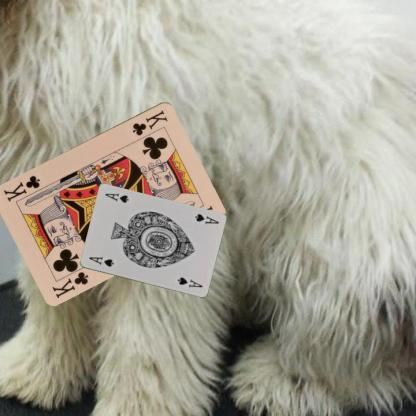As: (192, 211, 220, 226), (86, 254, 115, 268)
Kc: (50, 268, 90, 299), (130, 107, 169, 137)
